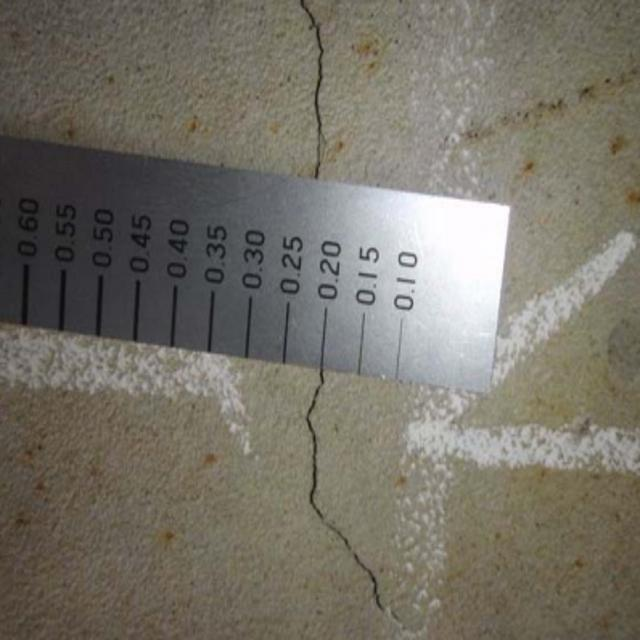crack: (293, 370, 406, 640), (297, 9, 346, 184)
